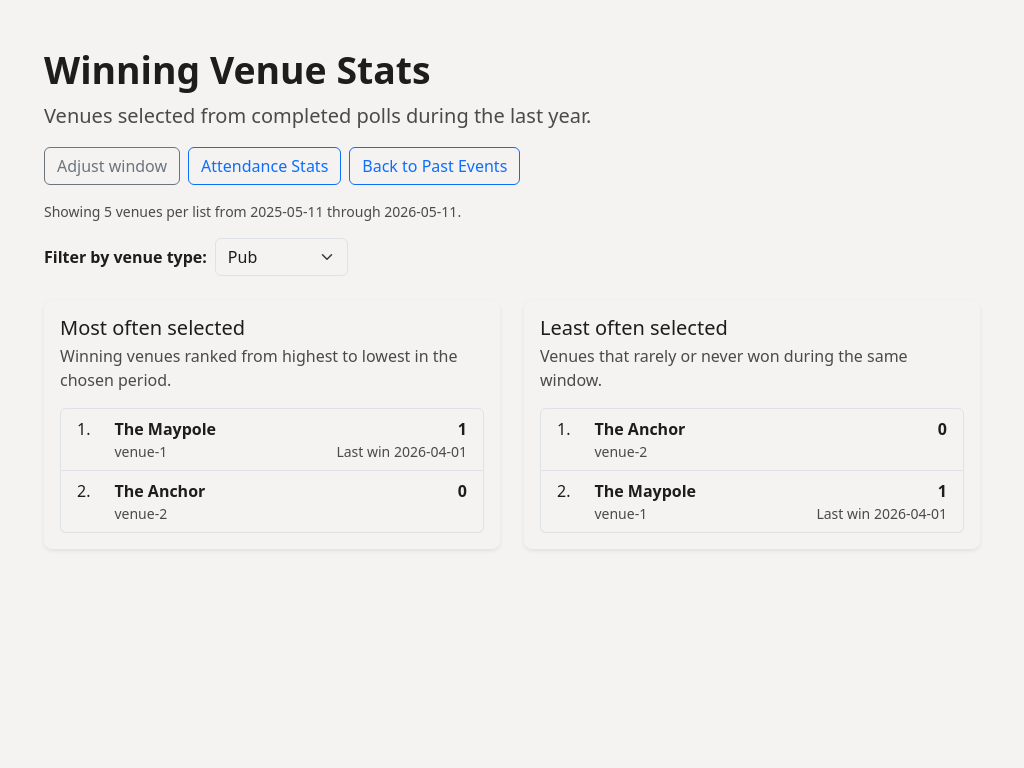
it: WinningVenueStatsPage › defaults to pub venues and can switch to all types
Expected: the text "The Maypole" below "Most often selected" is shown, [114,418,216,440]
Expected: the text "Bistro 12" is not shown
Select "All Types" in the dropdown labelled "Filter by venue type:" at {"x": 281, "y": 257}, box [215,238,348,276]
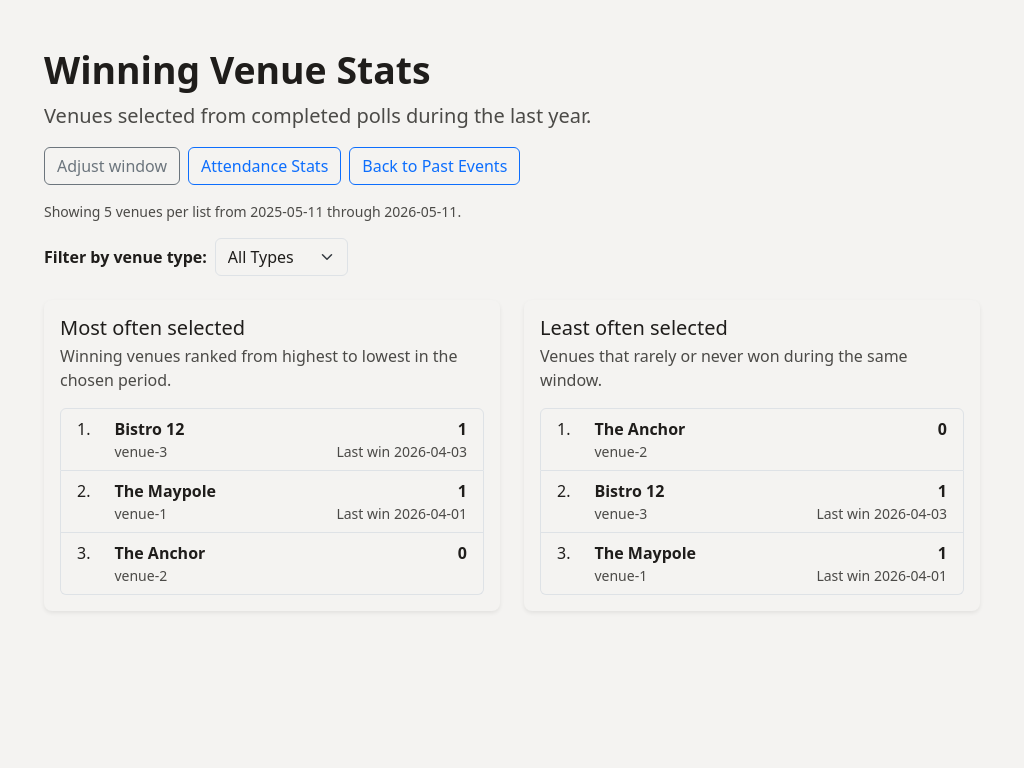
Result: the text "Bistro 12" below "Most often selected" is shown at [114,418,184,440]
